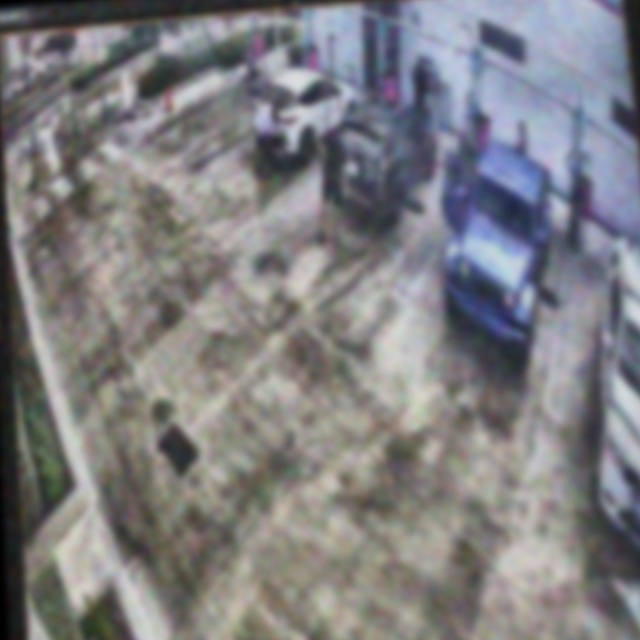Car: (428, 128, 573, 375), (328, 94, 444, 220), (255, 64, 363, 176)
